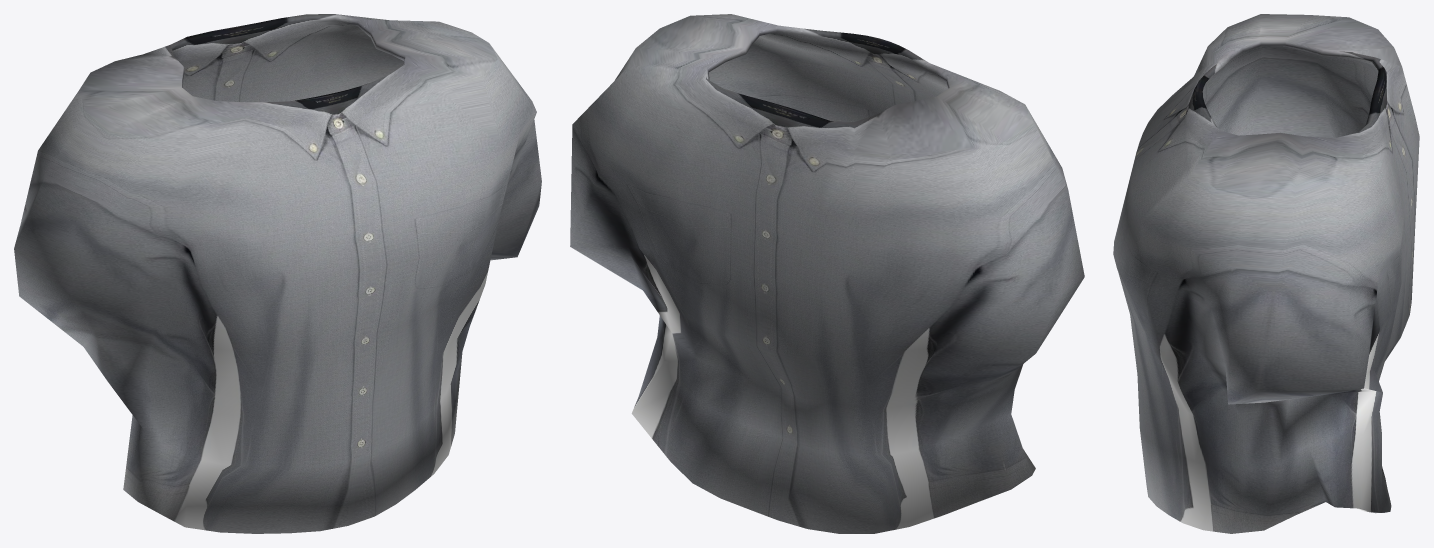
The model's file is b2020efe-0ae2-4854-9972-a1832af30b68.glb.
The picture shows the model from 3 angles, left to right: view 1: azimuth 30°, elevation 25°; view 2: azimuth 150°, elevation 25°; view 3: azimuth 270°, elevation 25°; orthographic projection. The views are drawn at different scales.
Parts seen in each view (by area): view 1: garment; view 2: garment; view 3: garment.
Boxes of the visible parts, x1,y1,x2,y2 form: garment: (14, 14, 541, 533); garment: (570, 14, 1084, 533); garment: (1113, 14, 1419, 533).
Size of the model in its own units: 0.5786 by 0.4675 by 0.3217.
Materials: 1 (1 with a texture image).
